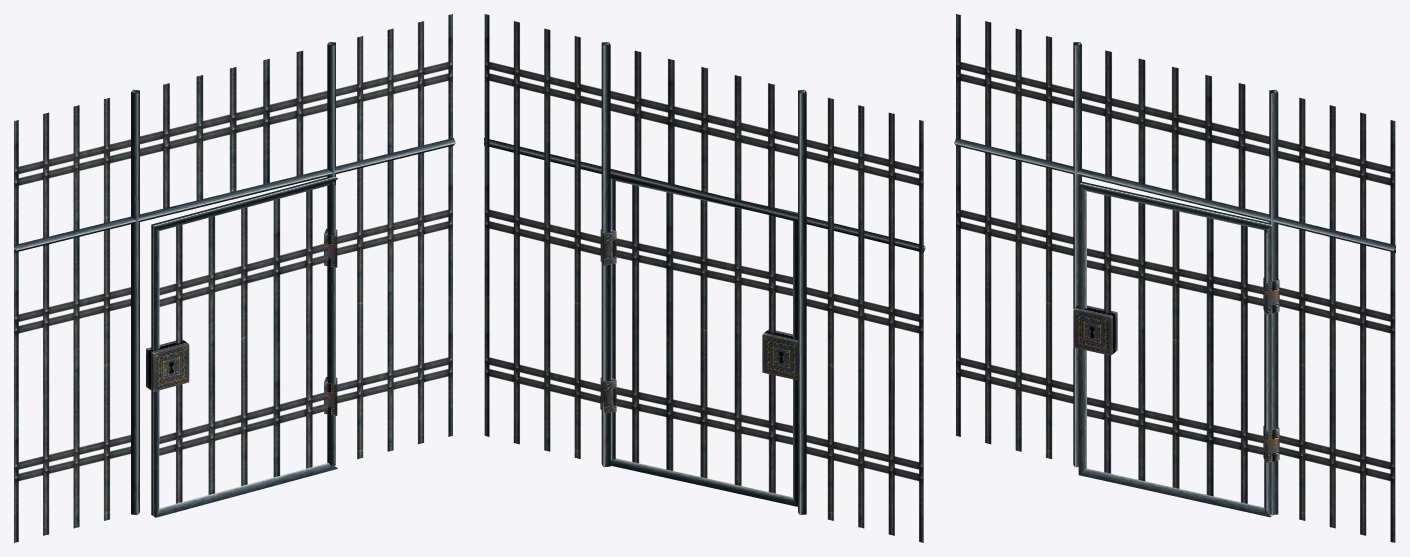
3 views of the same model, side by side, from view 1: azimuth 30°, elevation 25°; view 2: azimuth 150°, elevation 25°; view 3: azimuth 330°, elevation 25° (orthographic).
Parts seen in each view (by area): view 1: d_grid2; view 2: d_grid2; view 3: d_grid2.
Part boxes in pixels (x1,y1,x2,y2): d_grid2: (14,14,455,542); d_grid2: (484,14,925,542); d_grid2: (954,14,1395,542).
Size of the model in its own units: 3.6 by 3.3 by 0.2131.
3 materials, 3 textured.
